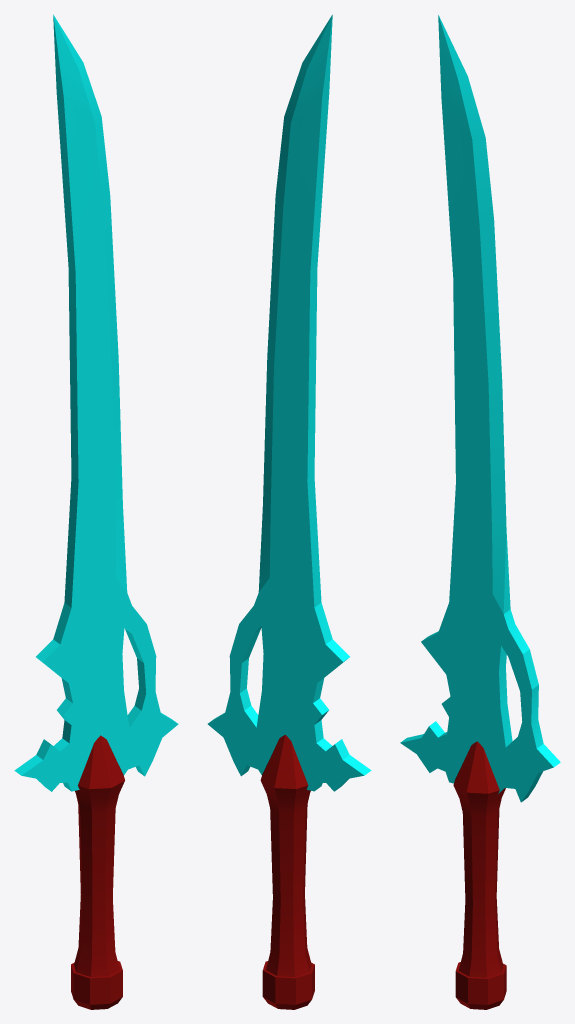
File: sword.obj
3 views of the same model, side by side, from view 1: azimuth 30°, elevation 25°; view 2: azimuth 150°, elevation 25°; view 3: azimuth 330°, elevation 25° (orthographic). The views are drawn at different scales.
Parts seen in each view (by area): view 1: Meshpart2, Meshpart1; view 2: Meshpart2, Meshpart1; view 3: Meshpart2, Meshpart1.
Boxes of the visible parts, x1,y1,x2,y2 form: Meshpart2: (14,14,178,791); Meshpart1: (71,735,124,1009); Meshpart2: (207,14,371,791); Meshpart1: (260,734,314,1009); Meshpart2: (400,15,560,802); Meshpart1: (453,741,506,1009).
Bounding box in the file's own units: 0.881 × 5.34 × 0.285.
